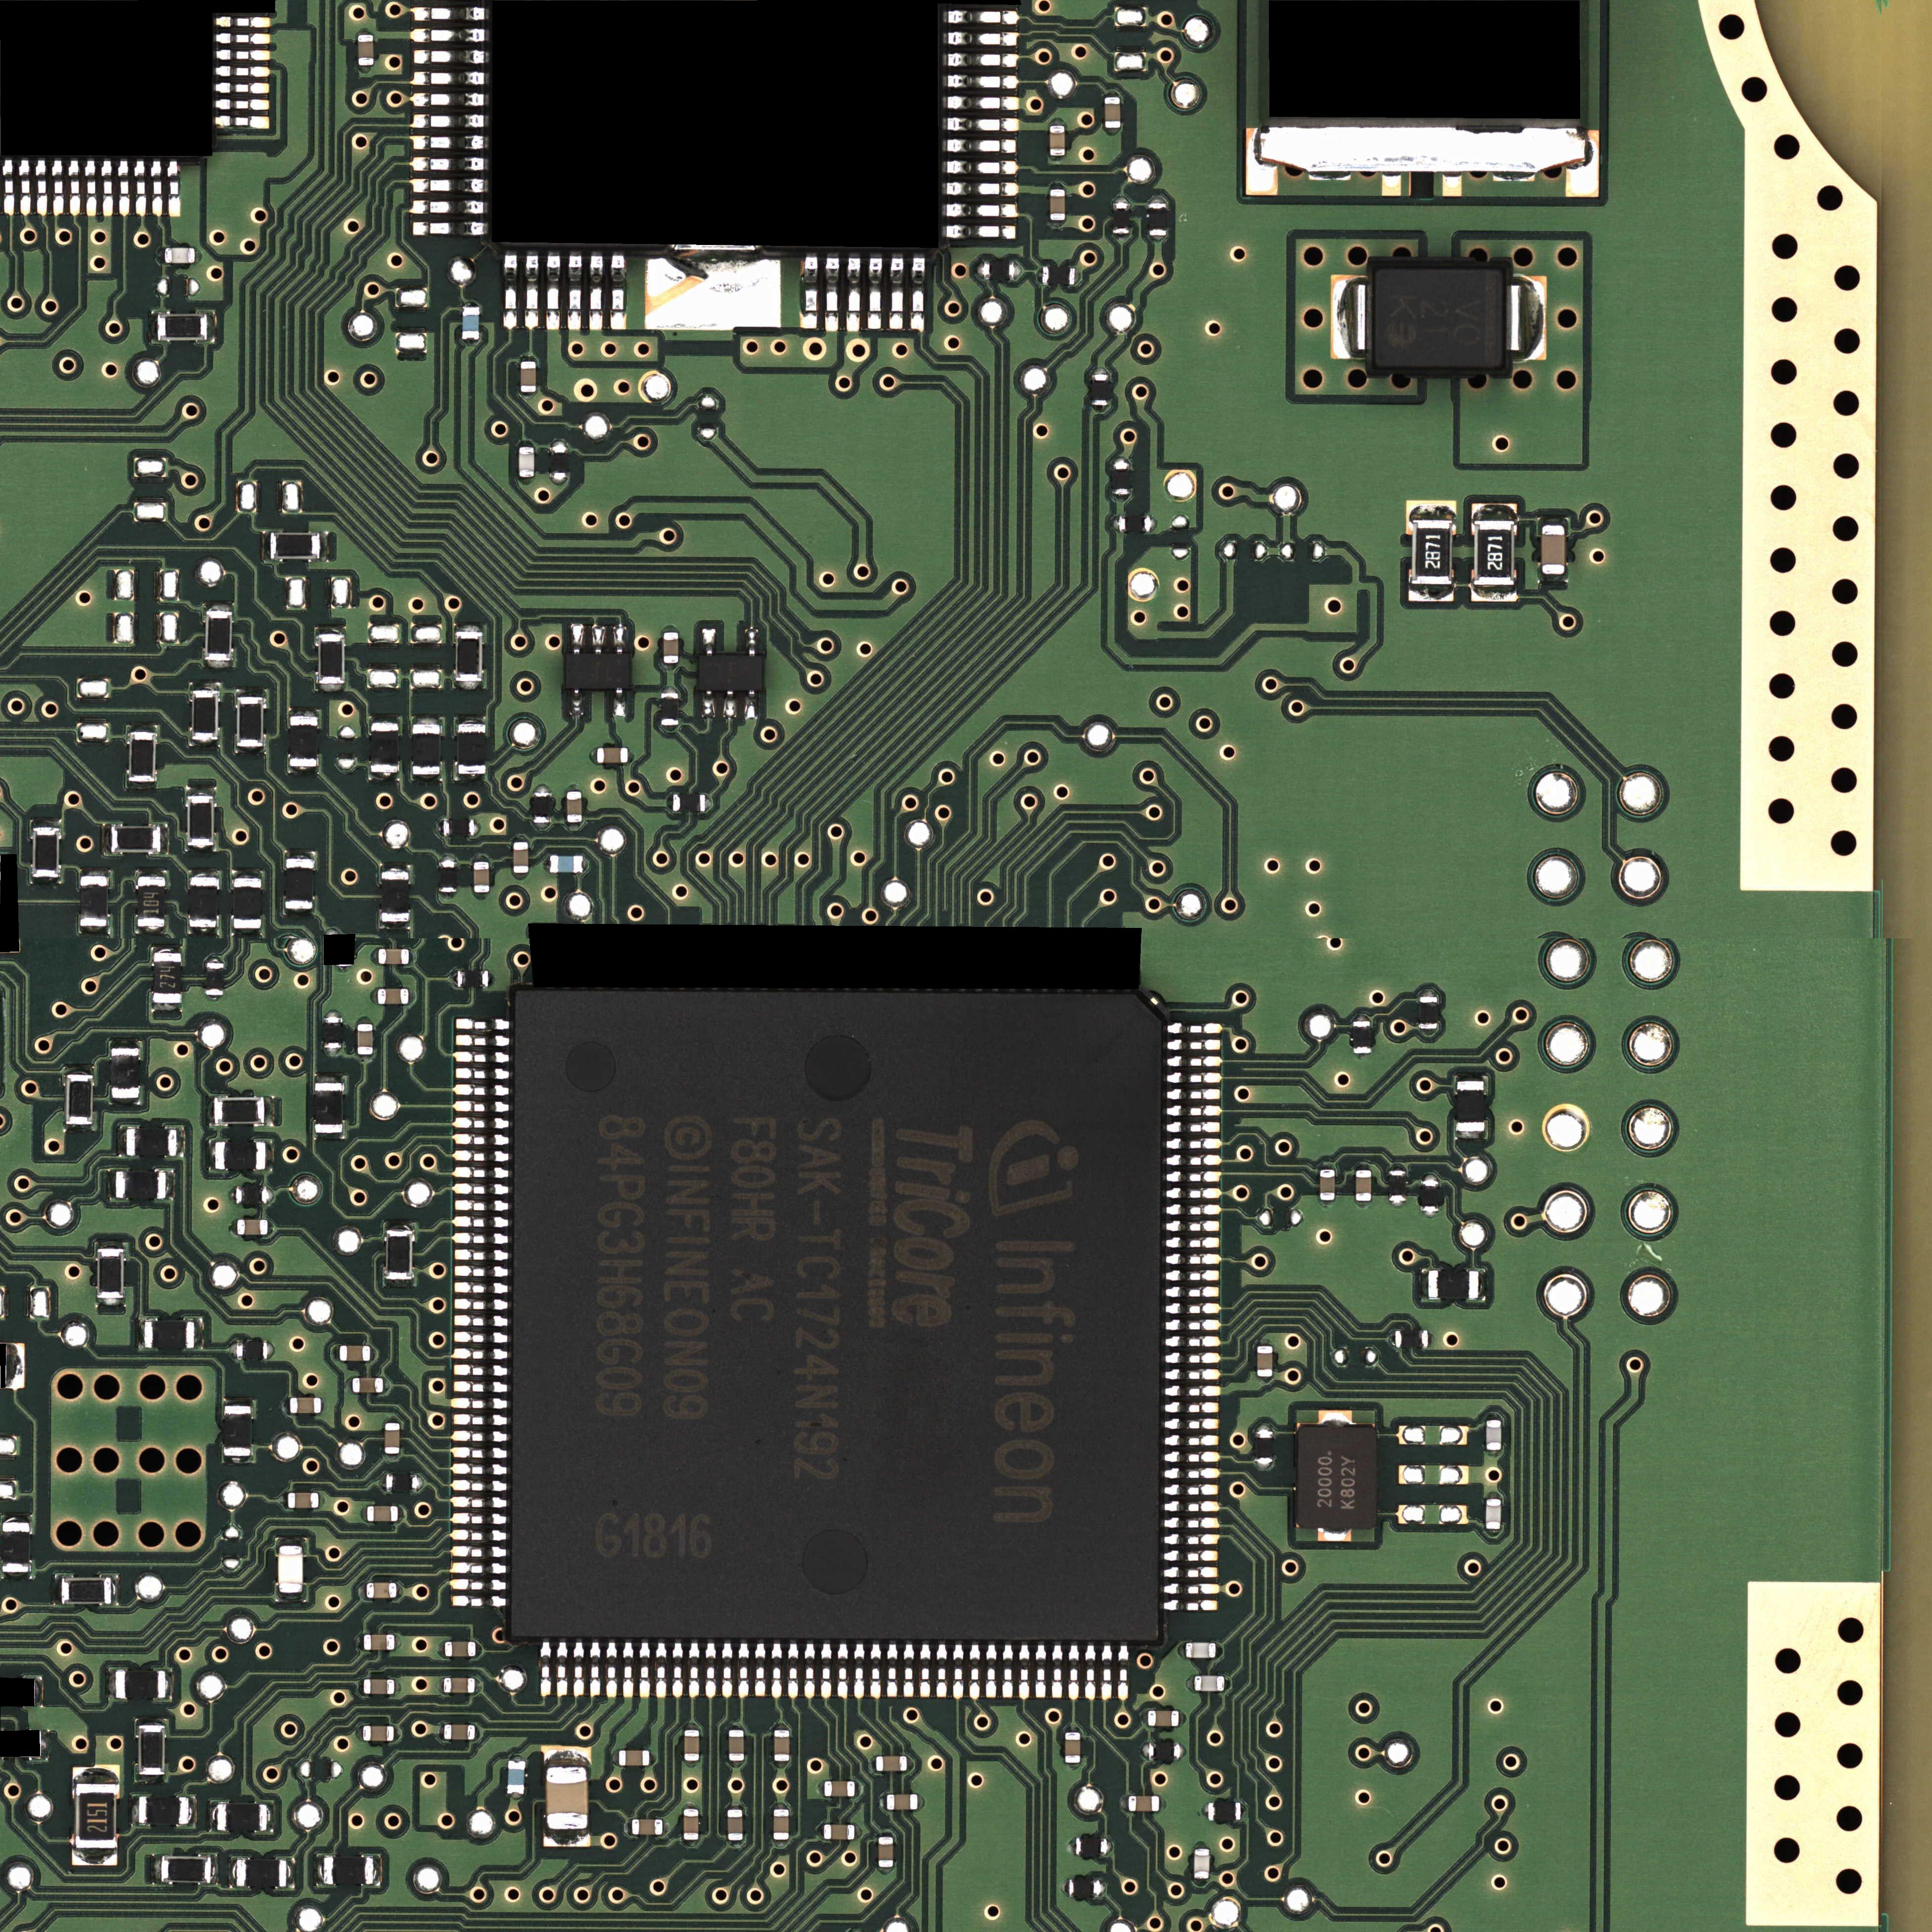Package: (513, 998, 1157, 1637), (1375, 267, 1504, 368), (1299, 1426, 1375, 1529), (76, 1783, 117, 1847), (1412, 520, 1453, 584), (1474, 522, 1514, 586), (547, 1767, 587, 1829), (564, 653, 630, 688), (697, 655, 763, 690), (1428, 1270, 1479, 1300), (232, 879, 262, 929), (380, 870, 409, 922), (115, 1171, 166, 1200), (115, 1670, 166, 1698), (285, 860, 313, 909), (412, 725, 441, 775), (218, 1803, 267, 1831), (145, 1320, 195, 1348), (111, 1049, 140, 1099), (216, 1141, 265, 1169), (324, 1856, 373, 1884), (223, 1407, 251, 1456), (315, 1083, 343, 1132), (1456, 1081, 1484, 1131), (189, 878, 218, 927), (154, 952, 180, 1003), (138, 1798, 189, 1824), (80, 878, 108, 925), (136, 878, 165, 925), (2, 1523, 30, 1571), (458, 724, 485, 773), (290, 717, 317, 766), (318, 633, 345, 683), (188, 796, 214, 846), (237, 697, 264, 747), (129, 732, 156, 782), (111, 826, 161, 853), (127, 1129, 177, 1155), (97, 1249, 124, 1299), (161, 1856, 211, 1882), (237, 1859, 287, 1886), (205, 612, 232, 660), (372, 724, 398, 771), (386, 1231, 412, 1279), (193, 690, 218, 740), (34, 828, 58, 878), (157, 315, 207, 340), (456, 632, 481, 681), (271, 534, 320, 559), (214, 1099, 264, 1123), (67, 1074, 92, 1123), (62, 1578, 111, 1603), (140, 1725, 165, 1775), (1541, 525, 1566, 575), (278, 1546, 303, 1592), (460, 308, 481, 340), (1419, 996, 1438, 1030), (205, 962, 225, 994), (235, 1185, 267, 1205), (1148, 203, 1168, 235), (672, 794, 706, 812), (508, 1760, 525, 1794), (1042, 267, 1076, 285), (533, 793, 552, 823), (442, 819, 474, 837), (1113, 464, 1131, 495), (1208, 1803, 1240, 1821), (1254, 1431, 1272, 1463), (1389, 1169, 1407, 1201), (1396, 1330, 1428, 1348), (1353, 1021, 1371, 1053), (1421, 1180, 1438, 1212), (1069, 1879, 1100, 1897), (237, 1341, 267, 1359), (324, 1017, 341, 1047), (1113, 203, 1131, 234), (1092, 375, 1109, 405), (1076, 1838, 1106, 1856), (662, 694, 678, 725), (520, 361, 536, 393), (550, 856, 582, 872), (566, 791, 582, 823), (384, 1422, 400, 1454), (386, 1474, 418, 1490), (1355, 1169, 1371, 1201), (1148, 1743, 1180, 1759), (518, 448, 534, 478), (357, 35, 373, 65), (379, 948, 409, 964), (165, 248, 195, 264), (513, 842, 529, 872), (552, 448, 568, 478), (290, 1398, 320, 1414), (773, 1810, 789, 1840), (876, 1755, 906, 1771), (683, 1810, 699, 1840), (632, 1819, 662, 1835), (368, 1506, 398, 1522), (773, 1730, 789, 1760), (364, 1635, 395, 1651), (363, 1725, 393, 1741), (727, 1810, 743, 1840), (886, 1794, 916, 1810), (357, 1024, 373, 1054), (340, 1345, 370, 1361), (366, 1582, 396, 1598), (444, 1677, 474, 1693), (824, 1824, 855, 1840), (364, 1679, 395, 1695), (237, 1219, 267, 1235), (729, 1730, 745, 1760), (878, 1836, 893, 1867), (619, 1750, 649, 1766), (1104, 97, 1120, 127), (1049, 126, 1065, 156), (1049, 189, 1065, 219), (1120, 517, 1150, 533), (1129, 1796, 1159, 1812), (1320, 1169, 1336, 1200), (1065, 1732, 1081, 1762), (1194, 1675, 1224, 1691), (1194, 1849, 1210, 1879), (1185, 1642, 1215, 1658), (1486, 1421, 1502, 1451), (1256, 1346, 1272, 1376), (1148, 1711, 1178, 1727), (444, 1642, 476, 1656), (598, 748, 628, 763), (379, 989, 409, 1003), (474, 862, 488, 892), (663, 633, 678, 663), (441, 862, 455, 892), (288, 1493, 318, 1507), (685, 1730, 699, 1760), (352, 1378, 382, 1392), (444, 1725, 474, 1739), (824, 1782, 855, 1796), (1486, 1499, 1500, 1529), (334, 966, 352, 971)
Solder: (1247, 126, 1596, 195), (644, 257, 782, 329), (1330, 274, 1375, 361), (1502, 276, 1546, 361), (798, 253, 819, 329), (610, 255, 628, 333), (867, 255, 885, 331), (846, 255, 863, 331), (824, 255, 842, 331), (945, 7, 1019, 25), (945, 32, 1019, 50), (945, 53, 1019, 71), (945, 73, 1019, 90), (947, 96, 1021, 113), (947, 136, 1021, 154), (945, 115, 1019, 133), (945, 200, 1019, 218), (945, 180, 1019, 198), (945, 157, 1019, 175), (945, 223, 1019, 241), (407, 134, 488, 150), (407, 113, 488, 129), (407, 92, 488, 108), (407, 71, 488, 87), (407, 177, 487, 193), (407, 156, 487, 172), (409, 28, 488, 44), (410, 5, 490, 21), (502, 253, 518, 331), (524, 253, 540, 331), (888, 257, 904, 333), (566, 255, 582, 331), (545, 255, 561, 331), (909, 257, 925, 331), (409, 221, 490, 235), (407, 200, 488, 214), (409, 50, 488, 64), (589, 255, 603, 331), (1405, 501, 1456, 520), (543, 1746, 591, 1766), (149, 159, 165, 218), (1166, 1019, 1224, 1035), (166, 161, 182, 218), (115, 159, 131, 216), (83, 159, 99, 216), (455, 1016, 511, 1031), (451, 1166, 511, 1180), (449, 1346, 510, 1361), (448, 1511, 508, 1525), (448, 1578, 508, 1592), (1164, 1203, 1224, 1217), (1164, 1219, 1224, 1233), (1164, 1334, 1224, 1348), (1161, 1582, 1221, 1596), (543, 1829, 591, 1847), (133, 159, 147, 218), (451, 1182, 510, 1196), (451, 1231, 510, 1246), (451, 1281, 510, 1295), (451, 1297, 510, 1311), (451, 1362, 510, 1376), (449, 1396, 508, 1410), (448, 1560, 506, 1575), (449, 1594, 508, 1608), (720, 1642, 734, 1700), (853, 1642, 867, 1700), (1166, 1039, 1224, 1053), (1166, 1054, 1224, 1069), (1166, 1070, 1224, 1085), (1166, 1086, 1224, 1100), (1166, 1102, 1224, 1116), (1164, 1187, 1223, 1201), (1164, 1251, 1223, 1265), (1164, 1350, 1223, 1364), (1162, 1483, 1221, 1497), (1162, 1499, 1221, 1513), (1472, 502, 1518, 520), (7, 1341, 25, 1387), (214, 50, 271, 64), (214, 81, 271, 96), (51, 159, 65, 216), (2, 159, 16, 216), (453, 1247, 510, 1261), (449, 1545, 506, 1559), (571, 1642, 586, 1698), (605, 1642, 619, 1698), (621, 1642, 635, 1698), (655, 1642, 669, 1698), (770, 1644, 784, 1700), (803, 1644, 817, 1700), (902, 1644, 916, 1700), (936, 1644, 950, 1700), (968, 1644, 982, 1700), (1051, 1644, 1065, 1700), (1116, 1644, 1131, 1700), (216, 16, 271, 30), (216, 32, 271, 46), (216, 65, 271, 80), (214, 99, 269, 113), (214, 115, 269, 129), (538, 1642, 552, 1697), (73, 1767, 120, 1783), (1470, 586, 1518, 602), (1164, 1122, 1224, 1134), (1164, 1138, 1224, 1150), (1164, 1154, 1224, 1166), (1164, 1237, 1224, 1249), (1408, 586, 1454, 602), (101, 159, 113, 218), (35, 157, 48, 216), (453, 1035, 511, 1047), (451, 1051, 510, 1063), (451, 1067, 510, 1079), (451, 1083, 510, 1095), (453, 1100, 511, 1113), (451, 1148, 510, 1161), (451, 1200, 510, 1212), (451, 1215, 510, 1228), (451, 1315, 510, 1327), (451, 1380, 510, 1392), (449, 1447, 508, 1460), (449, 1463, 508, 1476), (449, 1479, 508, 1491), (449, 1529, 508, 1541), (688, 1642, 701, 1700), (821, 1642, 833, 1700), (1164, 1169, 1223, 1182), (1164, 1270, 1223, 1283), (1164, 1286, 1223, 1299), (1164, 1302, 1223, 1315), (1164, 1318, 1223, 1330), (1164, 1369, 1223, 1382), (1164, 1385, 1223, 1398), (1164, 1401, 1223, 1414), (1164, 1417, 1223, 1430), (1162, 1433, 1221, 1445), (1162, 1451, 1221, 1463), (1162, 1467, 1221, 1479), (1162, 1516, 1221, 1529), (1162, 1532, 1221, 1545), (1162, 1550, 1221, 1562), (1162, 1566, 1221, 1578), (1162, 1599, 1221, 1612), (73, 1849, 117, 1865), (69, 159, 81, 216), (19, 159, 32, 216), (453, 1116, 510, 1129), (453, 1132, 510, 1145), (453, 1265, 510, 1277), (451, 1330, 508, 1343), (451, 1414, 508, 1426), (451, 1430, 508, 1442), (449, 1495, 506, 1507), (556, 1642, 568, 1698), (589, 1642, 602, 1698), (639, 1642, 651, 1698), (672, 1642, 685, 1698), (704, 1644, 717, 1700), (738, 1644, 750, 1700), (754, 1644, 766, 1700), (787, 1644, 800, 1700), (837, 1644, 849, 1700), (870, 1644, 883, 1700), (886, 1644, 899, 1700), (920, 1644, 932, 1700), (952, 1644, 964, 1700), (985, 1644, 998, 1700), (1001, 1644, 1014, 1700), (1017, 1644, 1030, 1700), (1035, 1644, 1047, 1700), (1069, 1644, 1081, 1700), (1085, 1644, 1097, 1700), (1100, 1644, 1113, 1700), (1318, 1410, 1353, 1426), (722, 690, 738, 718), (1318, 1529, 1353, 1541), (701, 690, 717, 717), (612, 688, 626, 717), (570, 688, 584, 717), (745, 690, 757, 720), (571, 625, 584, 655), (382, 1221, 416, 1231), (150, 1852, 161, 1886), (0, 1513, 34, 1523), (593, 625, 605, 653), (30, 817, 62, 828), (101, 823, 111, 855), (702, 628, 715, 655), (370, 713, 400, 724), (203, 602, 234, 612), (288, 706, 318, 717), (260, 531, 271, 561), (223, 1396, 253, 1407), (133, 1775, 168, 1783), (133, 1716, 168, 1725), (315, 1072, 343, 1083), (747, 628, 757, 656), (209, 1799, 218, 1833), (78, 927, 111, 936), (150, 945, 182, 954), (379, 863, 410, 872), (368, 771, 400, 780), (264, 1095, 272, 1127), (195, 1318, 203, 1350), (53, 1573, 62, 1605), (165, 1668, 173, 1700), (287, 1858, 295, 1890), (614, 626, 625, 653), (41, 1729, 50, 1760), (315, 626, 345, 635), (285, 849, 315, 858), (203, 660, 234, 669), (456, 715, 487, 724), (412, 715, 442, 724), (186, 787, 216, 796), (127, 724, 157, 732), (453, 681, 483, 690), (96, 1299, 126, 1307), (119, 1127, 127, 1157), (110, 1040, 140, 1049), (131, 1796, 140, 1826), (276, 1537, 306, 1546), (232, 869, 262, 878), (455, 623, 483, 632), (317, 683, 345, 692), (276, 1592, 304, 1601), (1539, 573, 1568, 582), (1539, 517, 1568, 525), (94, 1242, 127, 1249), (111, 1573, 119, 1606), (78, 869, 111, 876), (455, 773, 487, 780), (379, 922, 410, 929), (126, 782, 157, 789), (283, 909, 315, 916), (189, 683, 221, 690), (159, 823, 166, 855), (313, 1132, 345, 1139), (150, 1003, 182, 1010), (166, 1169, 173, 1201), (209, 1139, 216, 1171), (209, 1095, 216, 1127), (177, 1127, 184, 1159), (384, 1279, 416, 1286), (138, 1318, 145, 1350), (373, 1854, 380, 1886), (108, 1668, 115, 1700), (189, 1796, 196, 1828), (230, 1856, 237, 1888), (211, 1854, 218, 1886), (1421, 1269, 1428, 1300), (1479, 1269, 1486, 1300), (136, 869, 168, 876), (188, 869, 219, 876), (134, 927, 166, 934), (35, 1675, 42, 1707), (235, 690, 265, 697), (320, 531, 327, 561), (189, 740, 219, 747), (186, 846, 216, 853), (288, 766, 318, 773), (412, 775, 442, 782), (235, 747, 265, 754), (64, 1125, 94, 1132), (108, 1169, 115, 1200), (64, 1067, 94, 1074), (265, 1141, 272, 1171), (317, 1856, 324, 1886), (223, 1456, 253, 1463), (267, 1803, 274, 1833), (1456, 1131, 1486, 1138), (1456, 1074, 1486, 1081), (189, 929, 219, 936), (32, 878, 60, 885), (234, 929, 262, 936), (150, 313, 157, 340), (207, 313, 214, 340), (0, 1573, 34, 1578), (548, 478, 568, 487), (110, 1099, 140, 1104), (472, 892, 490, 901), (324, 1008, 341, 1017), (533, 823, 550, 832), (533, 784, 550, 793), (1104, 127, 1122, 136), (1092, 366, 1109, 375), (1060, 1879, 1069, 1897), (357, 27, 373, 35), (195, 248, 203, 264), (435, 819, 444, 835), (370, 948, 379, 964), (357, 1016, 373, 1024), (331, 1345, 340, 1361), (357, 1582, 366, 1598), (359, 1506, 368, 1522), (474, 1677, 483, 1693), (541, 856, 550, 872), (878, 1867, 893, 1875), (773, 1760, 789, 1769), (662, 1819, 671, 1835), (683, 1801, 699, 1810), (729, 1760, 745, 1769), (683, 1721, 699, 1730), (773, 1801, 789, 1810), (727, 1801, 743, 1810), (1049, 219, 1065, 228), (1049, 117, 1065, 126), (1256, 1338, 1272, 1346), (1389, 1162, 1405, 1171), (1256, 1422, 1272, 1431), (1185, 1675, 1194, 1691), (1177, 1642, 1185, 1658), (1067, 1838, 1076, 1854), (1120, 1796, 1129, 1812), (1178, 1711, 1187, 1727), (1215, 1642, 1224, 1658), (1065, 1762, 1081, 1771), (326, 1047, 341, 1056), (660, 686, 679, 694), (1419, 1030, 1438, 1037), (1419, 989, 1438, 996), (439, 892, 456, 899), (370, 989, 379, 1003), (205, 994, 223, 1001), (437, 1642, 446, 1656), (356, 1635, 364, 1649), (474, 1723, 481, 1741), (280, 1493, 288, 1507), (550, 441, 568, 448), (665, 794, 672, 812), (816, 1824, 824, 1838), (855, 1782, 863, 1796), (906, 1757, 915, 1771), (1113, 495, 1131, 502), (1092, 405, 1109, 412), (1113, 196, 1131, 203), (1150, 517, 1159, 531), (1320, 1200, 1334, 1208), (1428, 1330, 1435, 1348), (1353, 1014, 1371, 1021), (1353, 1053, 1371, 1060), (1192, 1879, 1210, 1886), (1192, 1842, 1210, 1849), (1240, 1803, 1247, 1821), (1254, 1463, 1272, 1470), (1486, 1529, 1500, 1537), (228, 1185, 235, 1203), (267, 1187, 274, 1205), (357, 65, 373, 73), (441, 855, 456, 862), (472, 855, 488, 862), (207, 955, 223, 962), (230, 1343, 237, 1359), (283, 1398, 290, 1414), (384, 1415, 400, 1422), (320, 1398, 327, 1414), (267, 1343, 274, 1359), (384, 1453, 400, 1460), (379, 1474, 386, 1490), (476, 1642, 483, 1658), (437, 1723, 444, 1739), (398, 1506, 405, 1522), (395, 1679, 402, 1695), (356, 1725, 363, 1741), (357, 1679, 364, 1695), (518, 478, 534, 485), (518, 441, 534, 448), (566, 823, 582, 830), (566, 784, 582, 791), (706, 794, 713, 810), (513, 872, 529, 879), (513, 835, 529, 842), (589, 747, 596, 763), (582, 856, 589, 872), (918, 1794, 925, 1810), (855, 1824, 862, 1840), (879, 1794, 886, 1810), (683, 1760, 699, 1767), (625, 1819, 632, 1835), (683, 1840, 699, 1847), (773, 1840, 789, 1847), (727, 1840, 743, 1847), (878, 1829, 893, 1836), (773, 1723, 789, 1730), (612, 1750, 619, 1766), (649, 1750, 656, 1766), (729, 1723, 745, 1730), (1104, 90, 1120, 97), (1049, 182, 1065, 189), (1035, 267, 1042, 283), (1049, 156, 1065, 163), (1113, 234, 1129, 241), (1113, 456, 1129, 464), (1256, 1376, 1272, 1384), (1355, 1201, 1371, 1208), (1422, 1212, 1438, 1219), (1422, 1173, 1438, 1180), (1389, 1330, 1396, 1346), (1389, 1201, 1405, 1208), (1065, 1725, 1081, 1732), (1099, 1881, 1106, 1897), (1201, 1803, 1208, 1819), (1180, 1743, 1187, 1759), (1159, 1796, 1166, 1812), (1224, 1675, 1231, 1691), (1141, 1743, 1148, 1759), (1486, 1412, 1502, 1419), (1486, 1451, 1502, 1458), (1486, 1491, 1502, 1499), (357, 1054, 373, 1062), (460, 340, 479, 345), (157, 248, 165, 262), (474, 821, 481, 835), (409, 950, 416, 964), (370, 1346, 377, 1361), (409, 989, 416, 1003), (382, 1378, 389, 1392), (345, 1378, 352, 1392), (230, 1219, 237, 1233), (267, 1221, 274, 1235), (395, 1635, 402, 1649), (318, 1493, 326, 1507), (396, 1583, 403, 1598), (418, 1476, 425, 1490), (437, 1679, 444, 1693), (395, 1727, 402, 1741), (628, 748, 635, 763), (663, 625, 678, 632), (869, 1757, 876, 1771), (817, 1782, 824, 1796), (1076, 269, 1083, 283), (1111, 517, 1118, 531), (1320, 1162, 1334, 1169), (1141, 1711, 1148, 1725), (662, 725, 679, 731), (508, 1755, 525, 1760), (1148, 198, 1166, 203), (462, 301, 479, 306), (520, 356, 536, 361), (520, 393, 536, 398), (663, 663, 679, 669), (508, 1794, 524, 1799), (1150, 235, 1166, 241), (1355, 1164, 1371, 1169), (1108, 1838, 1113, 1854), (324, 929, 340, 934)
